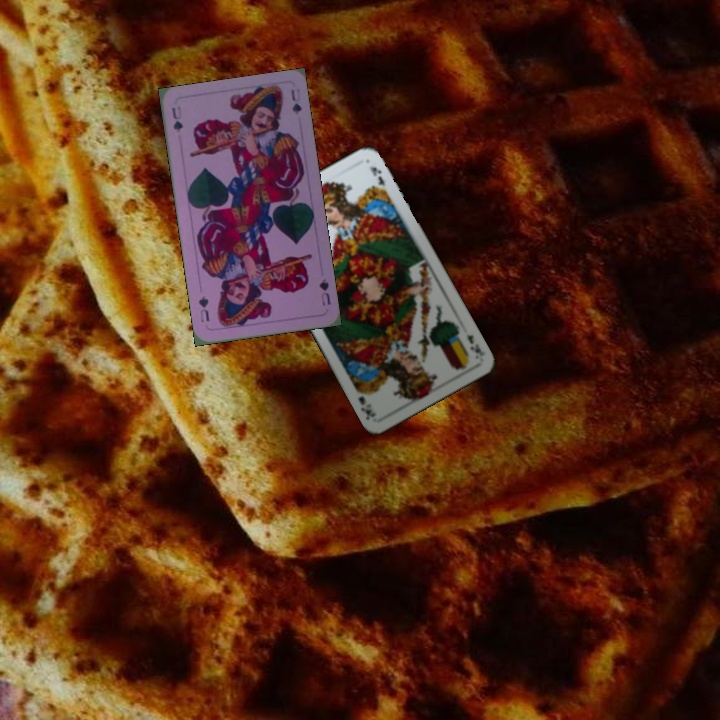EK: (462, 330, 487, 359)
GU: (315, 275, 333, 308), (168, 102, 185, 135)
